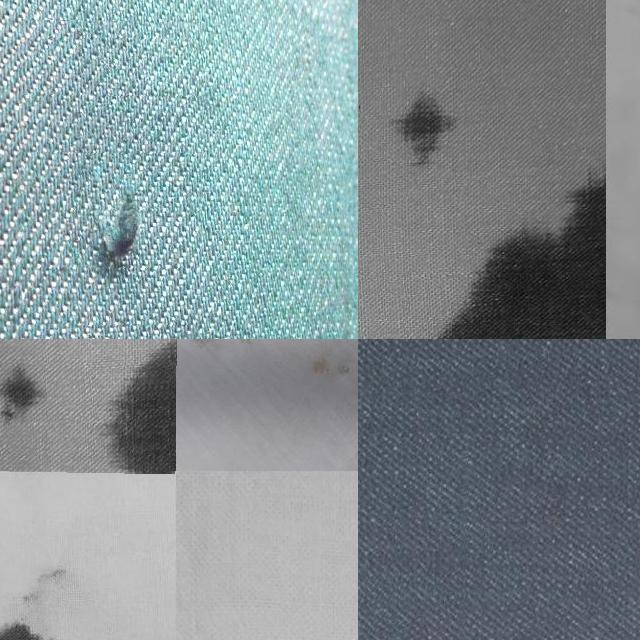Thread_other: (407, 67, 606, 339), (0, 339, 176, 472), (362, 64, 482, 174), (0, 561, 96, 640), (297, 339, 358, 418), (176, 339, 278, 383)
stains: (14, 20, 203, 339), (358, 339, 471, 640)
